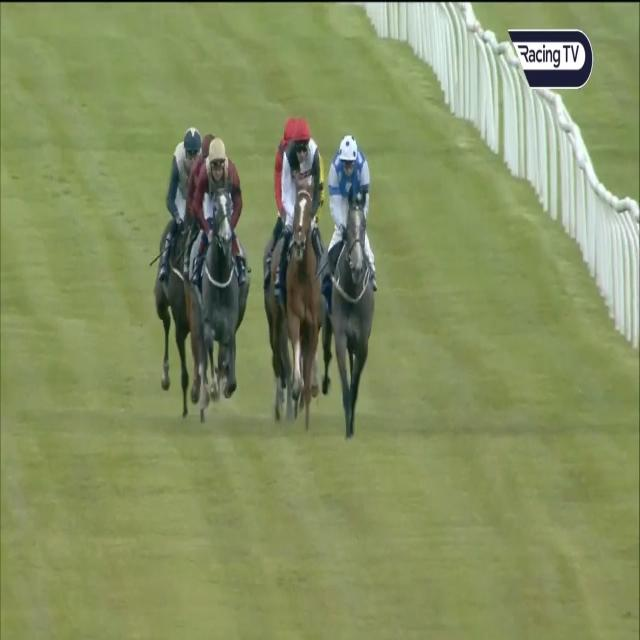horses-racing: (327, 131, 379, 461), (151, 126, 202, 426), (267, 120, 313, 428), (193, 138, 240, 419), (283, 121, 323, 432), (292, 126, 325, 422), (190, 134, 222, 426)
